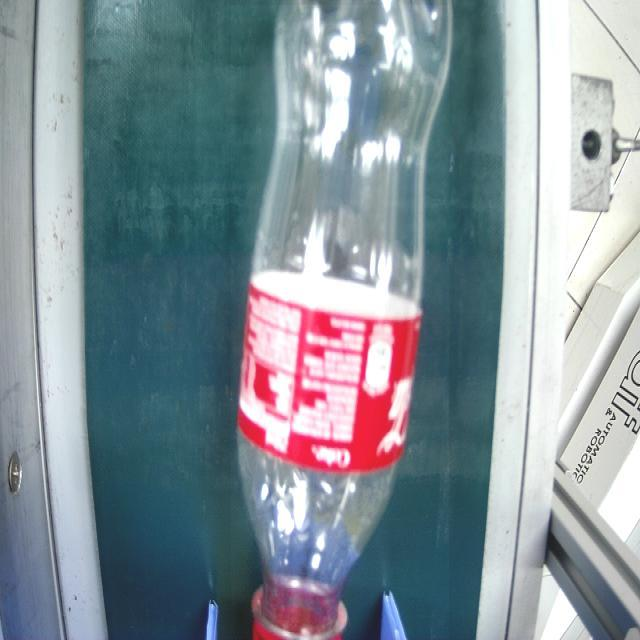Pet_Bottle: (231, 5, 449, 640)
